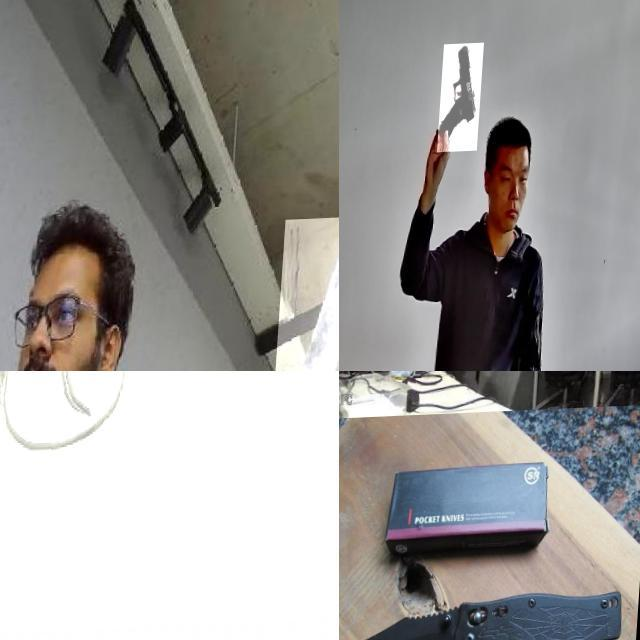-: (339, 587, 636, 640), (270, 220, 339, 371), (504, 371, 520, 388), (339, 548, 349, 575), (339, 371, 347, 386)
gun-knife-thesis - v11 Yolov5 augmented: (0, 371, 339, 640), (440, 46, 486, 156)
